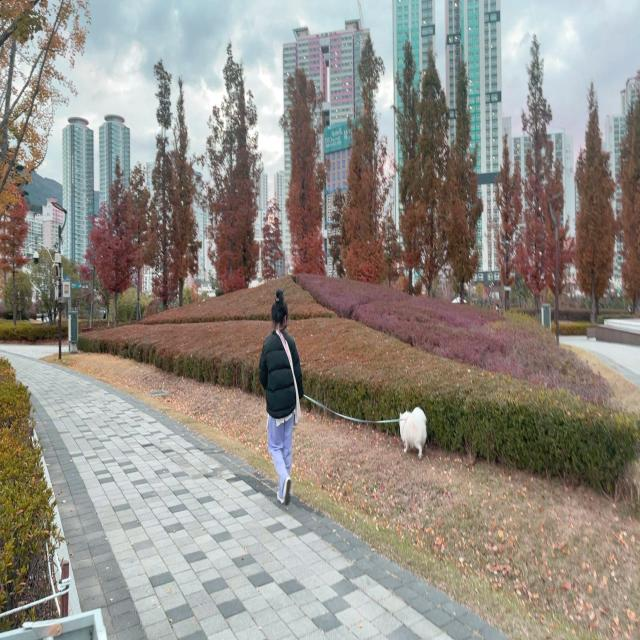Leashed_Dog: (286, 377, 428, 459)
